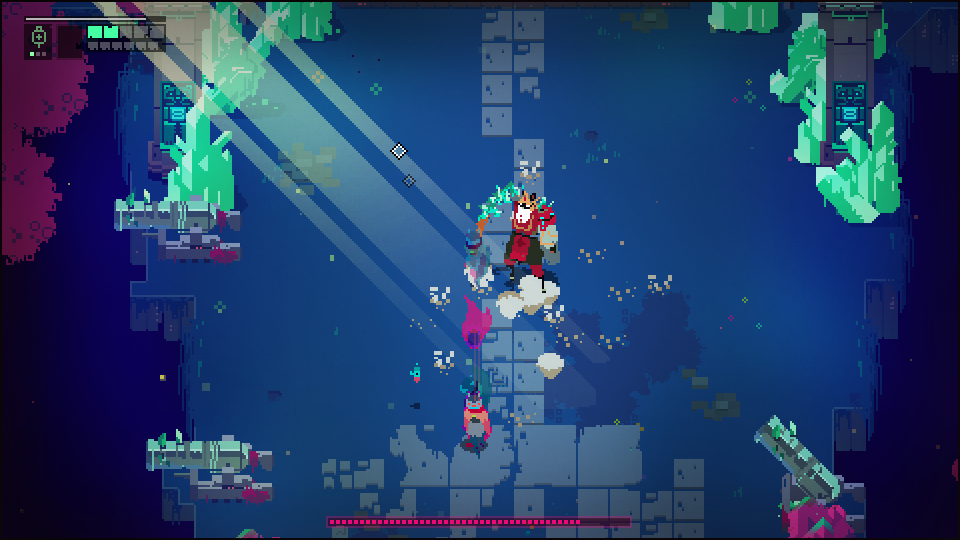hanged_man: (471, 182, 560, 302)
player: (460, 390, 493, 447)
